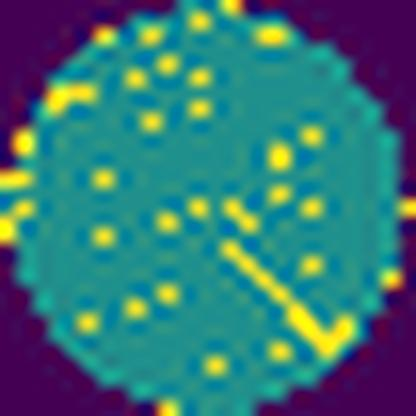Scratch: (213, 237, 359, 365)
